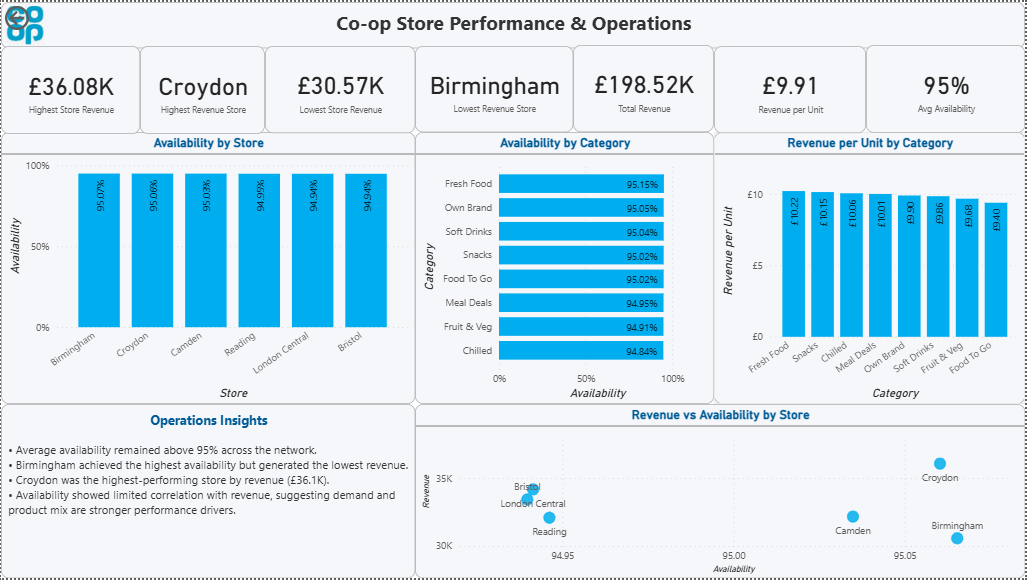

The page's visual inventory and layout, read from the dashboard file:
{"tool":"powerbi","page":{"name":"Store Performance & Operations","canvas":[1280,720],"ordinal":2},"visuals":[{"type":"textbox","box":[0,0,1280,57.6],"z":0,"group":"g1"},{"type":"columnChart","title":"Availability by Store","fields":{"Category":["coop_retail_cleaned_dataset.store"],"Y":["coop_retail_cleaned_dataset.Avg Availability"]},"box":[0,162.5,517.5,340],"z":0},{"type":"card","fields":{"Values":["coop_retail_cleaned_dataset.Avg Availability"]},"box":[1081.2,54,198.8,110],"z":1000,"group":"g2"},{"type":"scatterChart","title":"Revenue vs Availability by Store","fields":{"X":["Avg(coop_retail_cleaned_dataset.availability_pct)"],"Y":["Sum(coop_retail_cleaned_dataset.revenue)"],"Category":["coop_retail_cleaned_dataset.store"]},"box":[517.5,502.5,762.5,217.5],"z":1000},{"type":"card","fields":{"Values":["coop_retail_cleaned_dataset.Highest Store Revenue"]},"box":[0,55.3,173.8,110],"z":1750,"group":"g2"},{"type":"clusteredBarChart","title":"Availability by Category","fields":{"Category":["coop_retail_cleaned_dataset.category"],"Y":["coop_retail_cleaned_dataset.Avg Availability"]},"box":[517.5,162.5,373.8,340],"z":2000},{"type":"card","fields":{"Values":["coop_retail_cleaned_dataset.Highest Revenue Store"]},"box":[173.8,55.3,156.2,110],"z":2250,"group":"g2"},{"type":"columnChart","title":"Revenue per Unit by Category","fields":{"Y":["coop_retail_cleaned_dataset.Revenue per Unit"],"Category":["coop_retail_cleaned_dataset.category"]},"box":[891.2,162.5,388.8,340],"z":3000},{"type":"textbox","box":[0,502.5,517.5,217.5],"z":4000},{"type":"group","id":"g1","title":"Group 3","box":[0,0,1280,57.6],"z":5000},{"type":"group","id":"g2","title":"Group 1","box":[0,54,1280,111.3],"z":6000},{"type":"actionButton","box":[0,0,100,40],"z":7000},{"type":"card","fields":{"Values":["coop_retail_cleaned_dataset.Revenue per Unit"]},"box":[891.2,55.2,190,108.8],"z":7000,"group":"g2"},{"type":"card","fields":{"Values":["coop_retail_cleaned_dataset.Total Revenue"]},"box":[715,54.1,176.2,108.8],"z":8000,"group":"g2"},{"type":"image","box":[0,0,60,57.5],"z":11000,"group":"g1"},{"type":"card","fields":{"Values":["coop_retail_cleaned_dataset.Lowest Store Revenue"]},"box":[517.5,55.3,197.5,107.5],"z":11000,"group":"g2"},{"type":"card","fields":{"Values":["coop_retail_cleaned_dataset.Lowest Store Revenue"]},"box":[330,55.3,187.5,108.8],"z":12000,"group":"g2"}]}

Visuals, with their boxes in screenshot pixels (x1, y1, x2, y2), scaled from the page's 1280x720 canvas onto the 1028x581 screenshot:
textbox: (x1=0, y1=0, x2=1027, y2=46)
"Availability by Store" columnChart: (x1=0, y1=131, x2=416, y2=405)
card - coop_retail_cleaned_dataset.Avg Availability: (x1=868, y1=44, x2=1027, y2=132)
"Revenue vs Availability by Store" scatterChart: (x1=416, y1=405, x2=1027, y2=580)
card - coop_retail_cleaned_dataset.Highest Store Revenue: (x1=0, y1=45, x2=140, y2=133)
"Availability by Category" clusteredBarChart: (x1=416, y1=131, x2=716, y2=405)
card - coop_retail_cleaned_dataset.Highest Revenue Store: (x1=140, y1=45, x2=265, y2=133)
"Revenue per Unit by Category" columnChart: (x1=716, y1=131, x2=1027, y2=405)
textbox: (x1=0, y1=405, x2=416, y2=580)
"Group 3" group: (x1=0, y1=0, x2=1027, y2=46)
"Group 1" group: (x1=0, y1=44, x2=1027, y2=133)
actionButton: (x1=0, y1=0, x2=80, y2=32)
card - coop_retail_cleaned_dataset.Revenue per Unit: (x1=716, y1=45, x2=868, y2=132)
card - coop_retail_cleaned_dataset.Total Revenue: (x1=574, y1=44, x2=716, y2=131)
image: (x1=0, y1=0, x2=48, y2=46)
card - coop_retail_cleaned_dataset.Lowest Store Revenue: (x1=416, y1=45, x2=574, y2=131)
card - coop_retail_cleaned_dataset.Lowest Store Revenue: (x1=265, y1=45, x2=416, y2=132)
